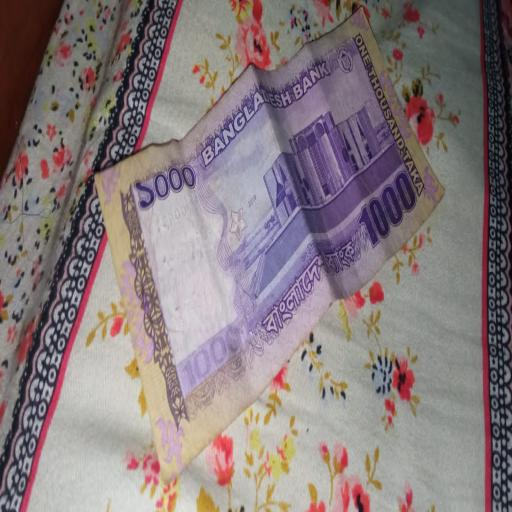1000taka: (96, 3, 444, 490)
